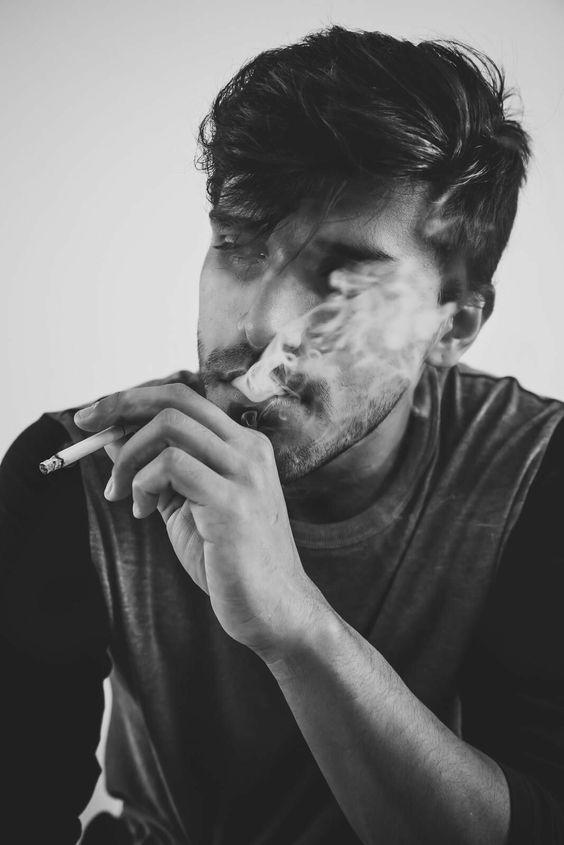cigarette: (39, 424, 143, 475)
